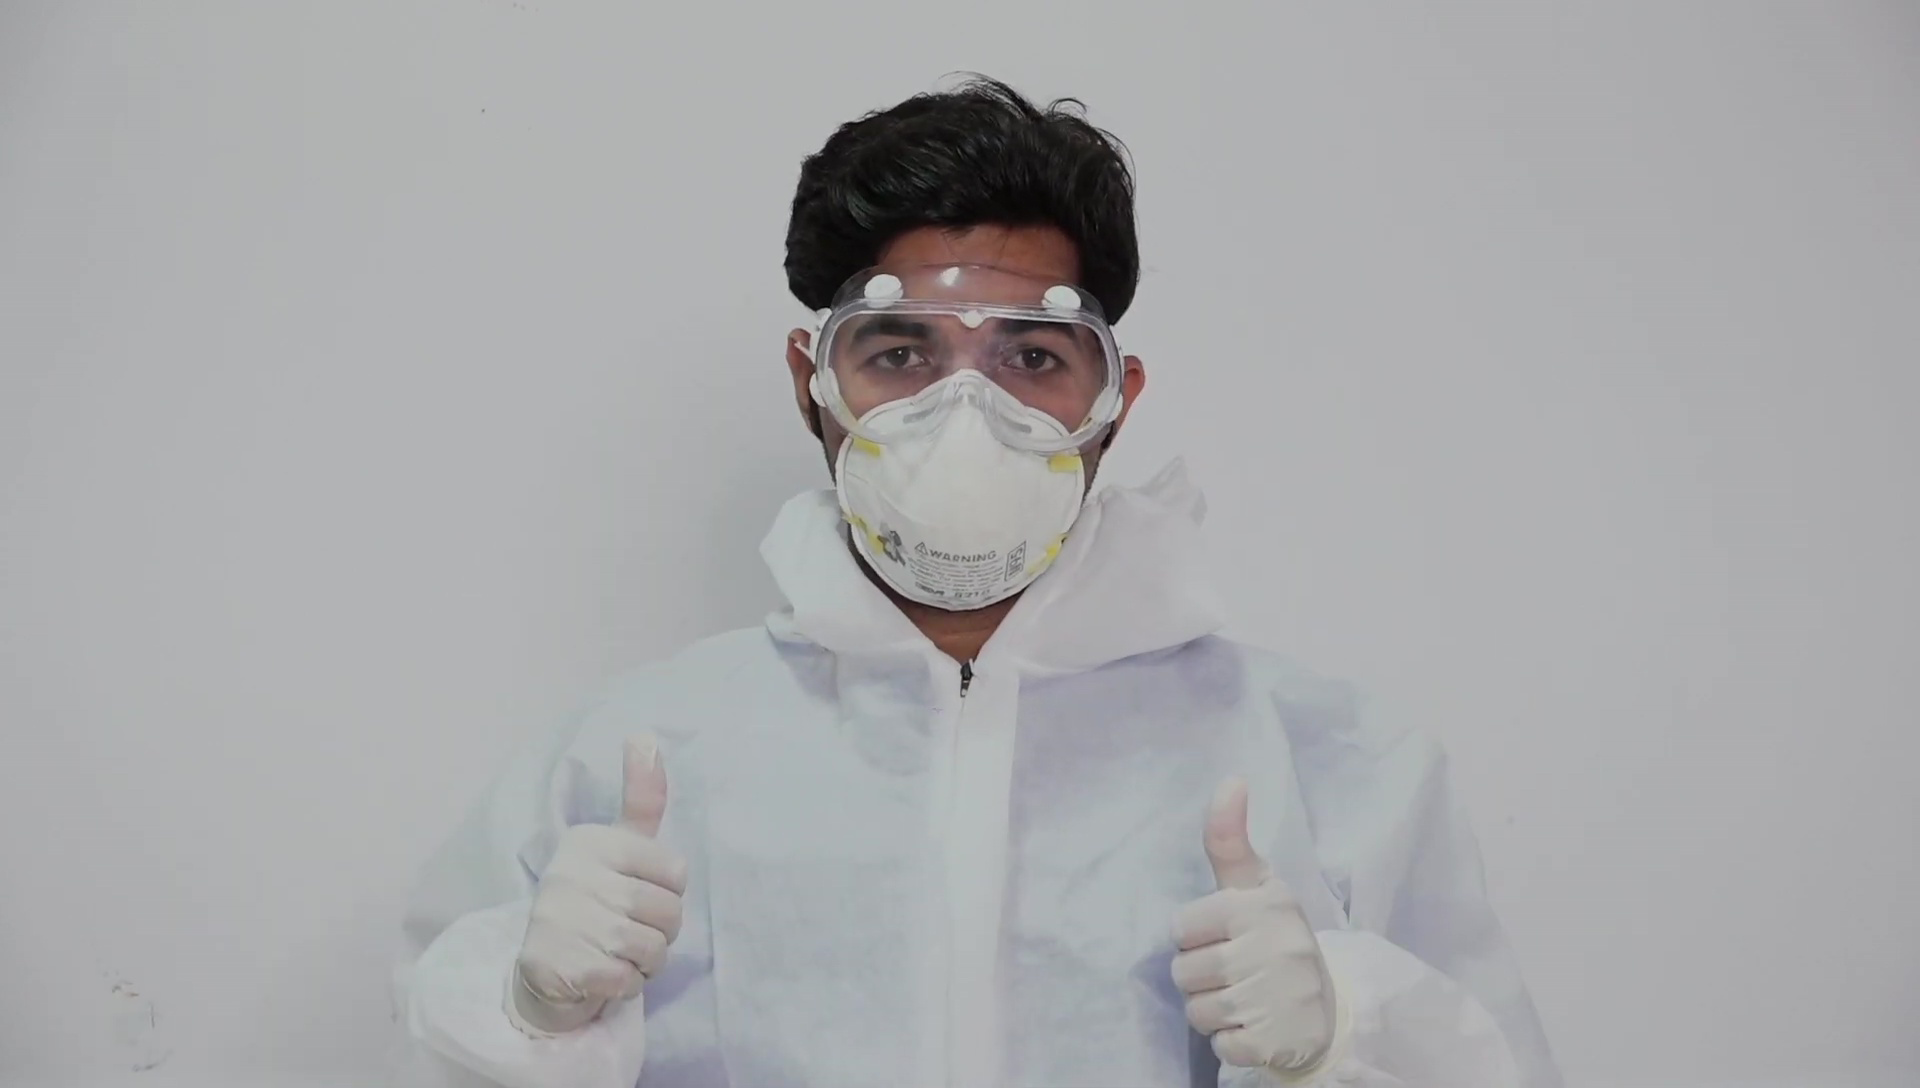Coverall: (392, 595, 1569, 1087)
Gloves: (512, 733, 689, 1035), (1164, 778, 1337, 1080)
Goggles: (805, 260, 1129, 458)
with_mask: (833, 329, 1095, 592)
